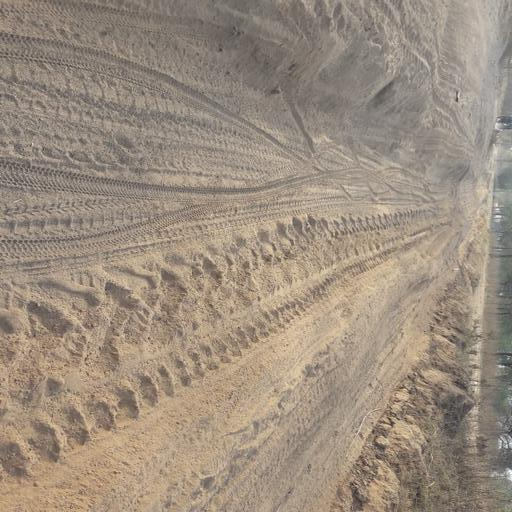vehicle_track: (0, 0, 474, 282), (0, 207, 454, 495), (203, 284, 423, 512)
